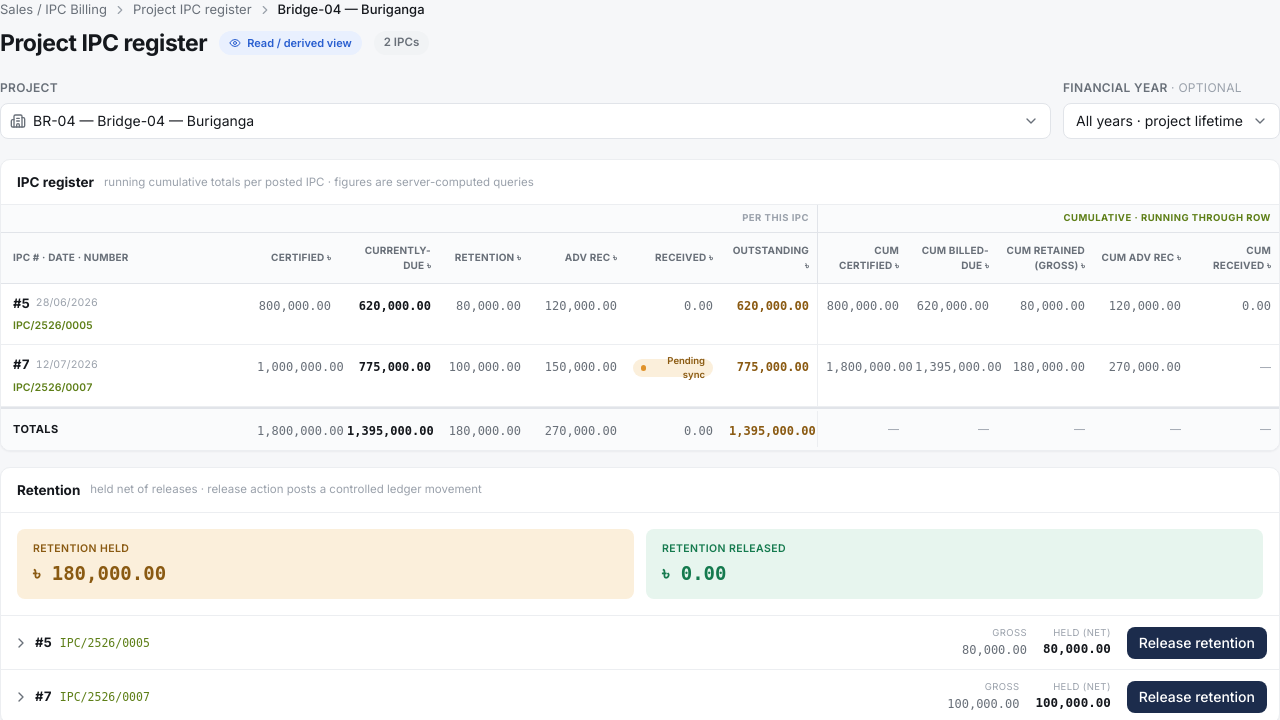
Test: Retention panel + Release-retention dialog (spec §5/§6/§7/§8) › maps PERIOD_CLOSED to the banner and keeps entered values (edge case 13)
Expected: the element with test id "reg-grid" is shown, x1=1 y1=205 x2=1279 y2=450
Click the button with test id "ret-release-btn-ipc-5".
click(1197, 642)  # box x1=1127 y1=626 x2=1267 y2=658
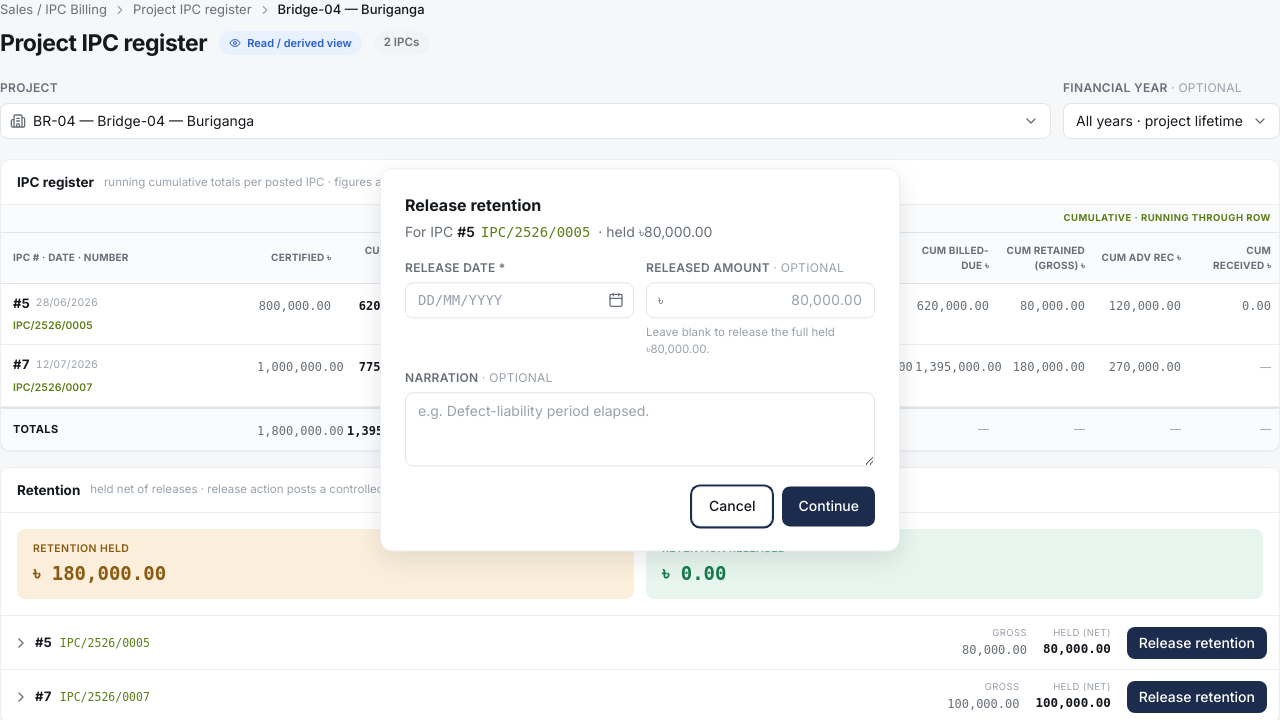
Expected: the dialog with test id "release-dialog" is shown, x1=380 y1=168 x2=900 y2=552
Type "20/06/2027" into the field labelled "Release date *".
click(520, 300); type("20/06/2027")  # box x1=405 y1=282 x2=634 y2=318
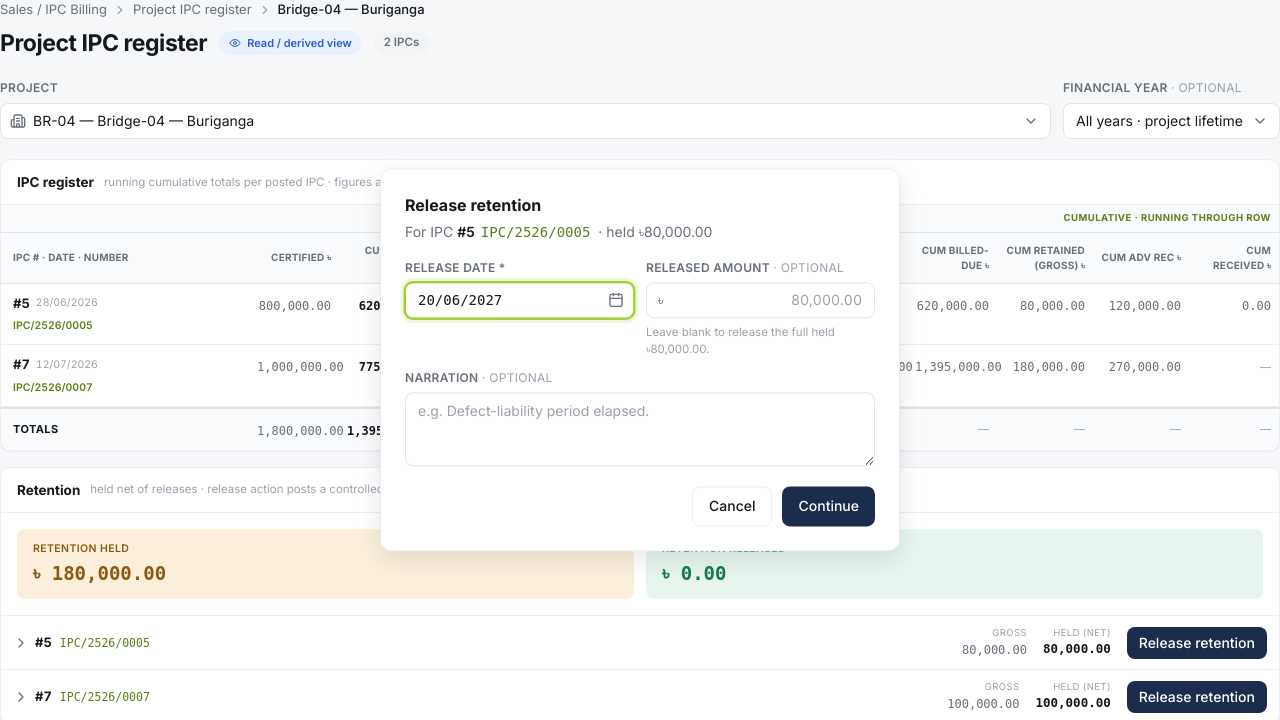
Click the button with test id "release-continue".
click(829, 507)  # box x1=782 y1=487 x2=875 y2=527
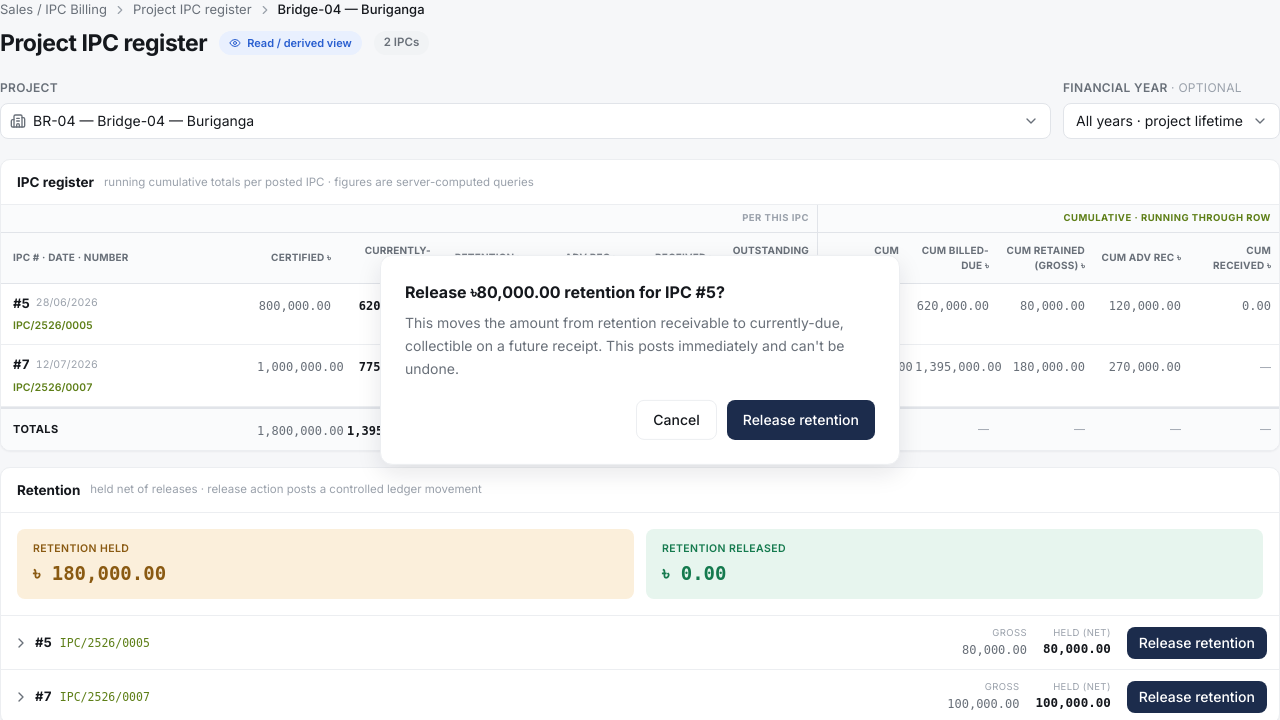
Click the button with test id "release-confirm".
click(801, 420)  # box x1=727 y1=400 x2=875 y2=440
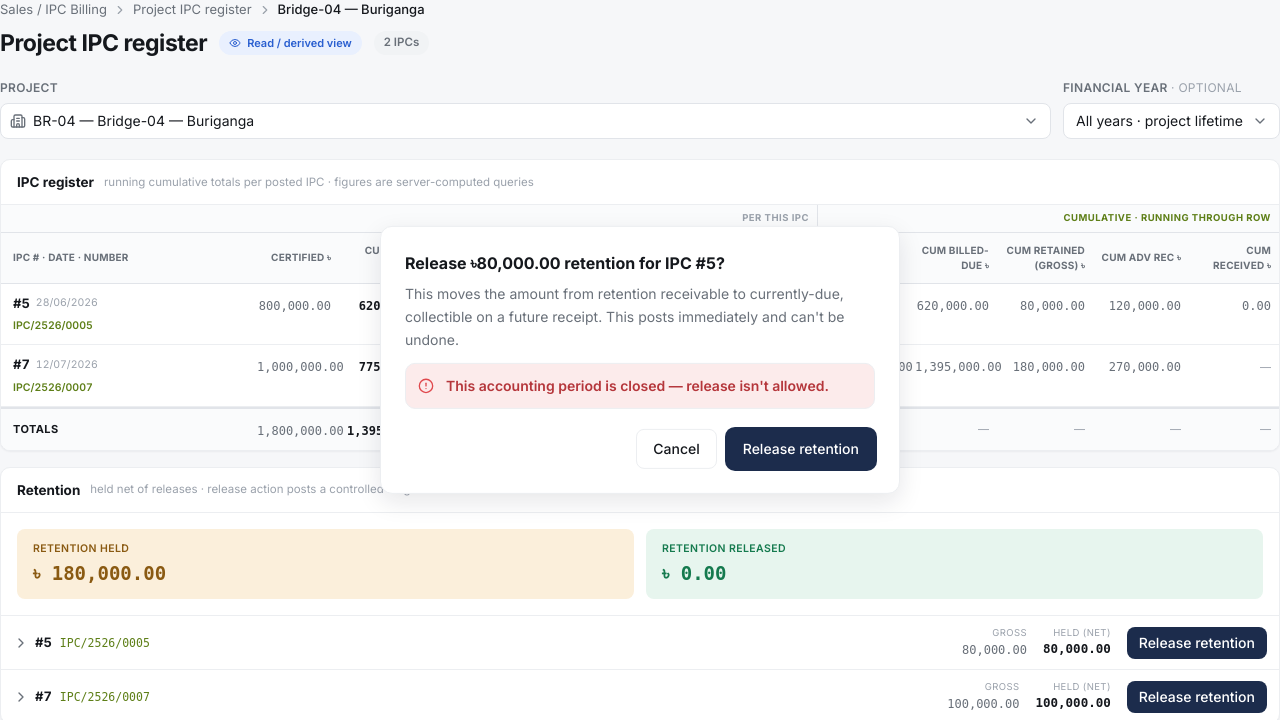
Expected: the dialog with test id "release-dialog" is shown, x1=380 y1=226 x2=900 y2=494
Expected: the element with test id "release-banner" shows "This accounting period is closed — release isn't allowed", x1=446 y1=377 x2=829 y2=394
